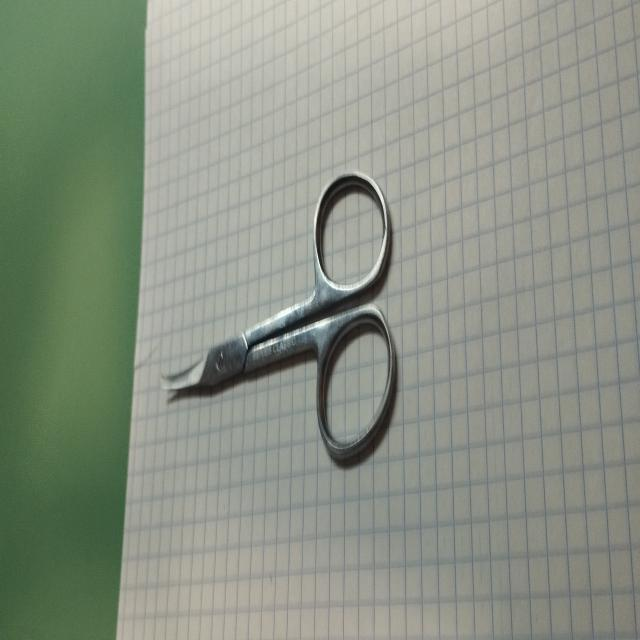tesoura: (155, 158, 402, 474)
